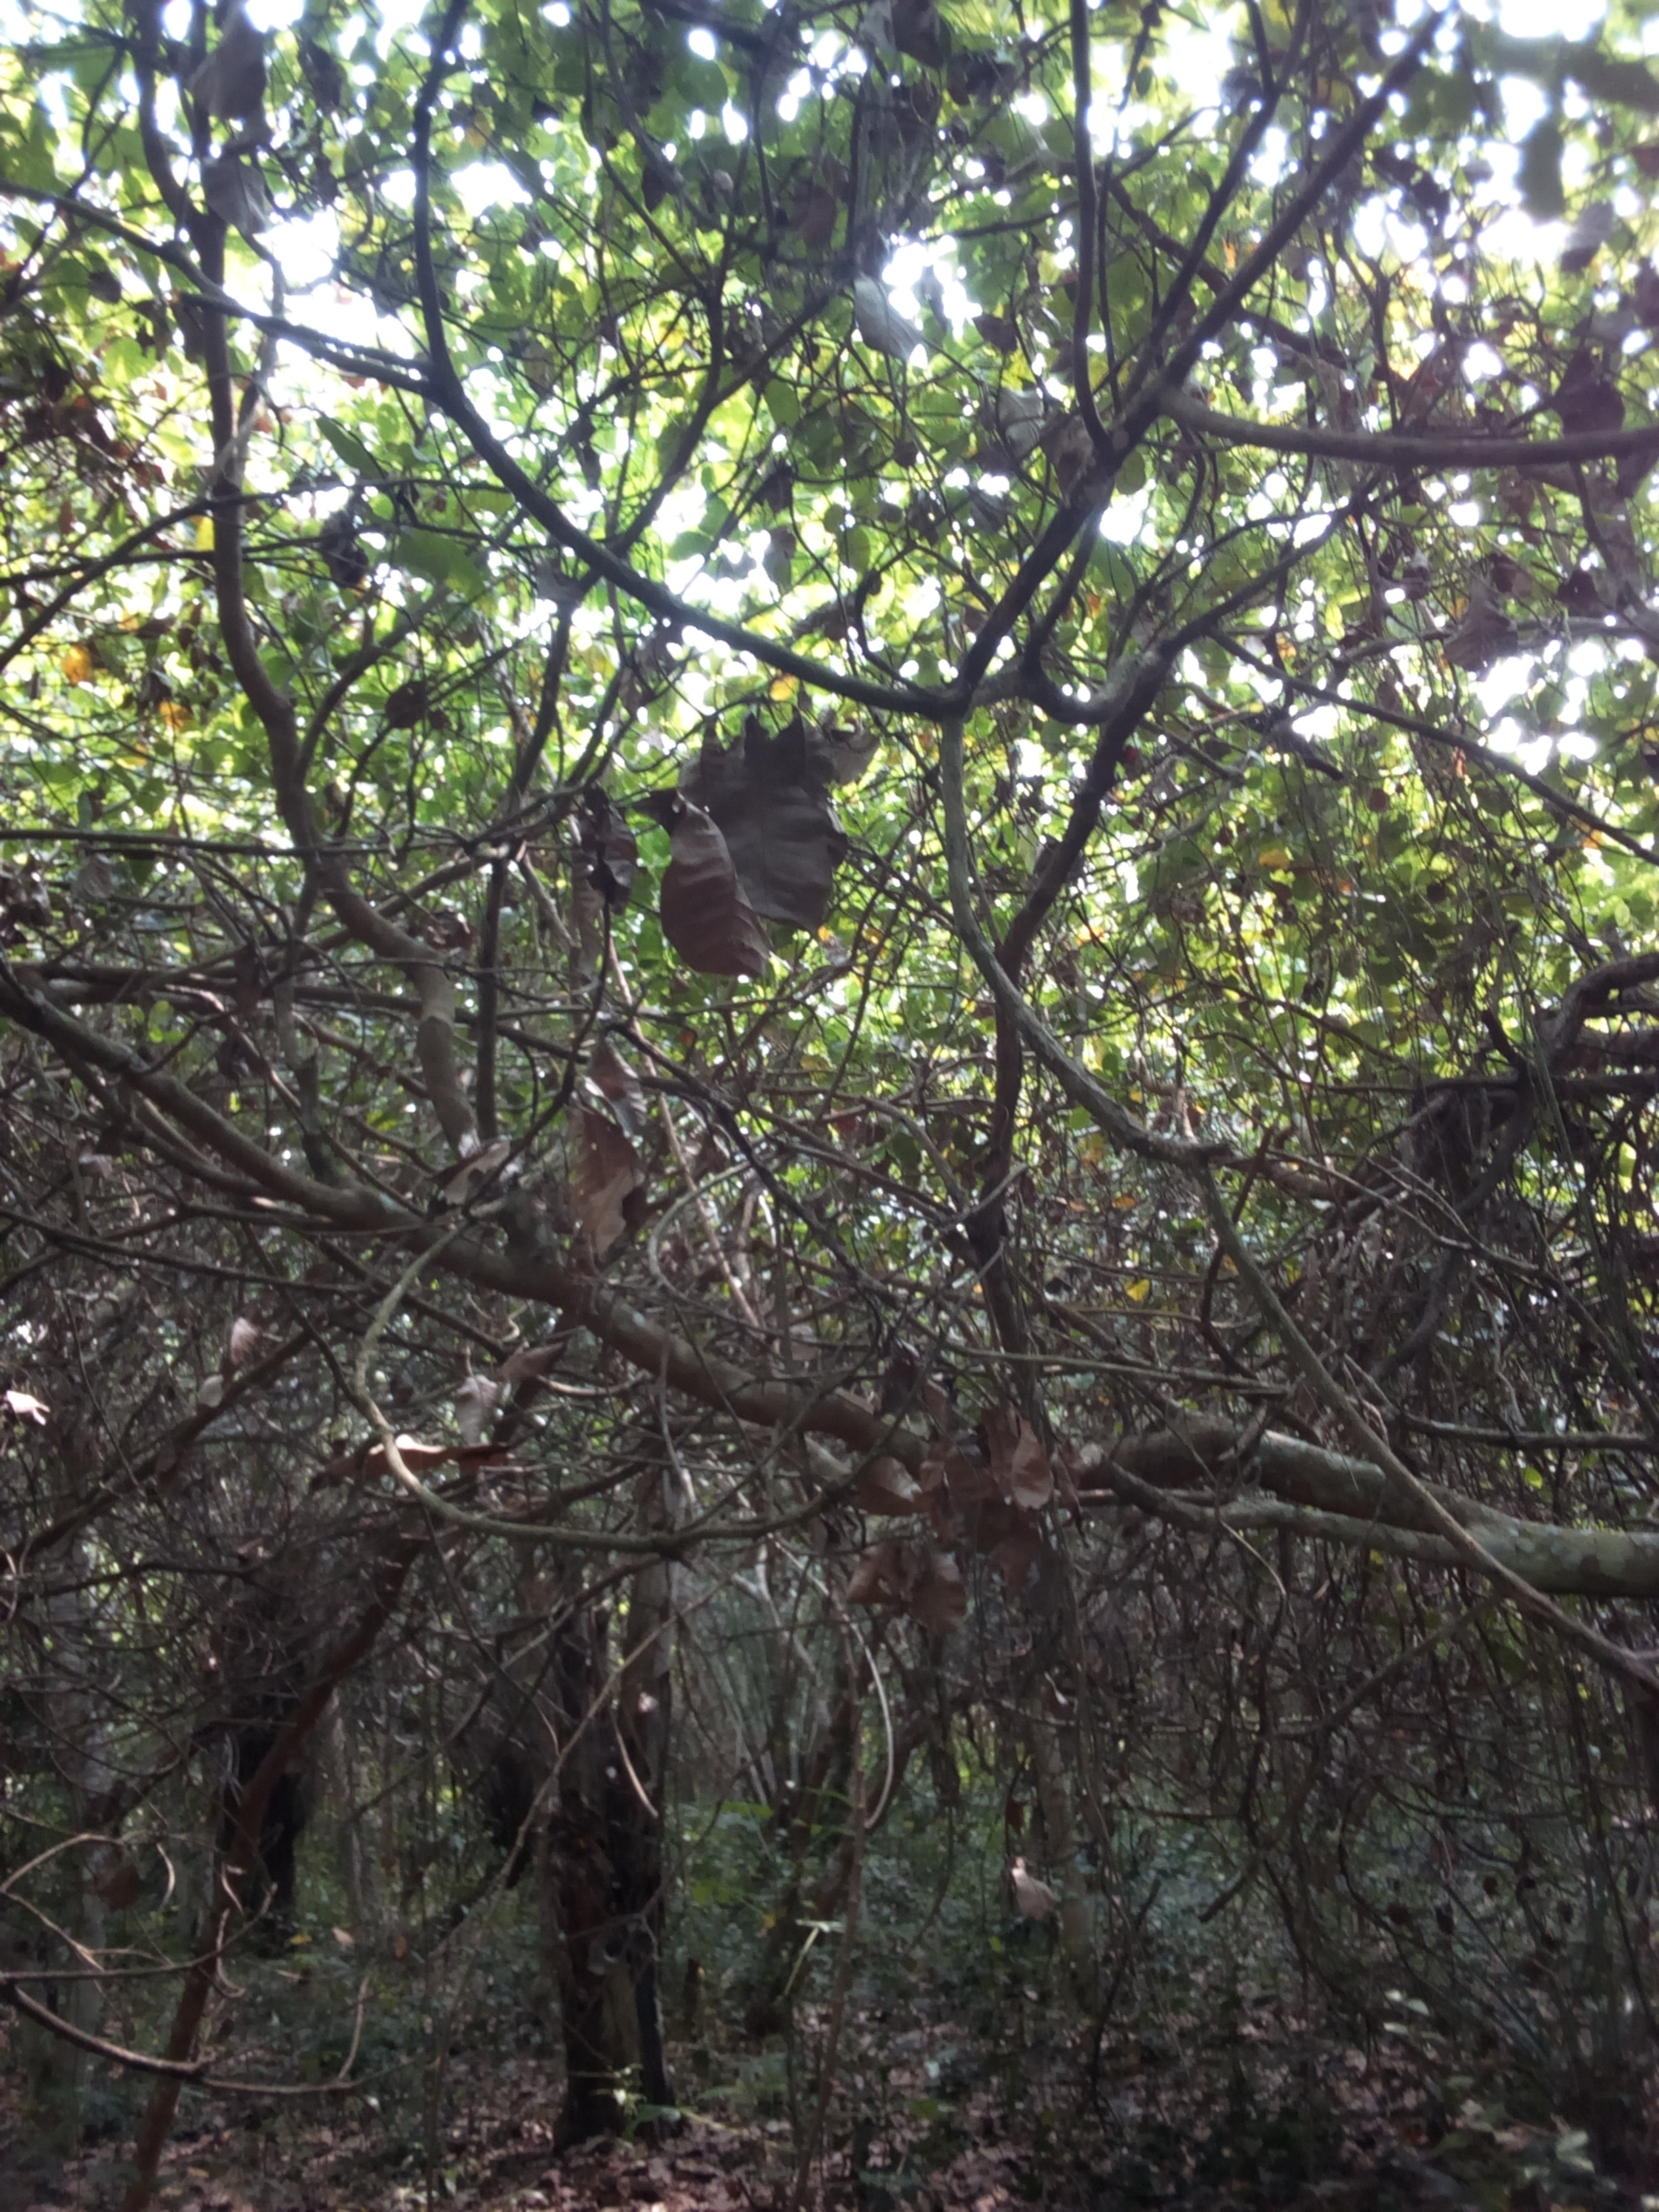Dessèchement des bourgeons: (301, 521, 392, 589)
